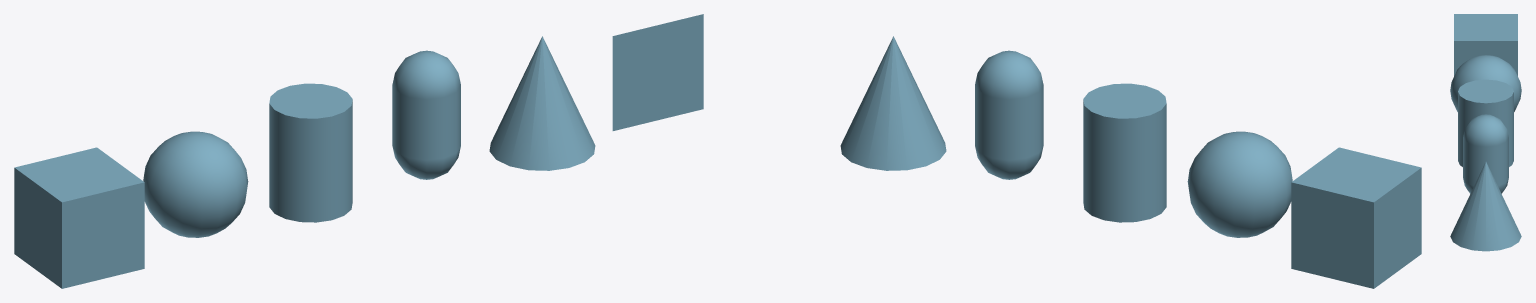
The model's file is primitive_gallery.glb.
3 renders of one model, left to right at view 1: azimuth 30°, elevation 25°; view 2: azimuth 150°, elevation 25°; view 3: azimuth 270°, elevation 25°, orthographic. The views are drawn at different scales.
Visible parts, largest first — view 1: box, cylinder, sphere, plane, cone, capsule; view 2: box, cylinder, sphere, cone, capsule; view 3: cone, box, capsule, cylinder, sphere.
Part boxes in pixels (left/top/right/bottom): box: left=14, top=147, right=144, bottom=288; cylinder: left=269, top=83, right=352, bottom=222; sphere: left=143, top=131, right=248, bottom=237; plane: left=612, top=14, right=703, bottom=130; cone: left=489, top=36, right=595, bottom=170; capsule: left=392, top=50, right=460, bottom=179; box: left=1291, top=147, right=1421, bottom=288; cylinder: left=1083, top=83, right=1166, bottom=222; sphere: left=1187, top=131, right=1292, bottom=237; cone: left=840, top=36, right=946, bottom=170; capsule: left=975, top=50, right=1043, bottom=179; cone: left=1450, top=162, right=1521, bottom=251; box: left=1454, top=14, right=1517, bottom=75; capsule: left=1463, top=114, right=1508, bottom=193; cylinder: left=1458, top=79, right=1513, bottom=166; sphere: left=1450, top=55, right=1521, bottom=111.
Size of the model in its own units: 4.03 by 0.71 by 0.56.
